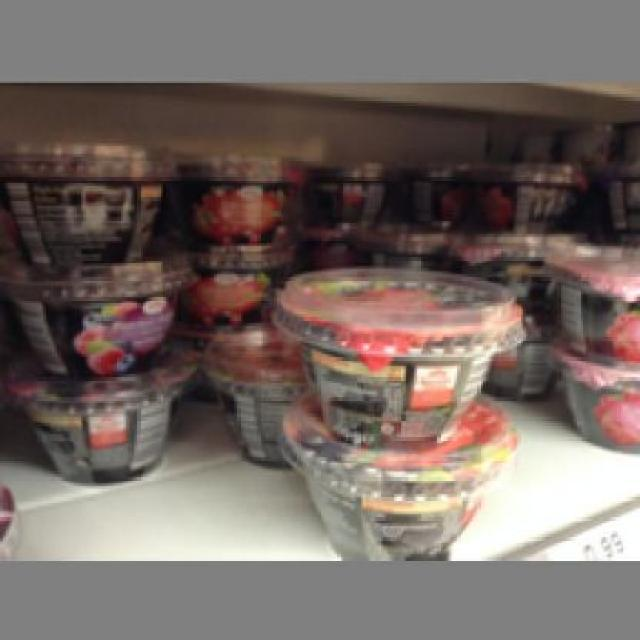Jam: (272, 260, 528, 446), (280, 380, 514, 554), (0, 361, 192, 478), (0, 263, 189, 374), (0, 143, 166, 263), (174, 148, 306, 241), (465, 160, 578, 229), (297, 157, 397, 226)
